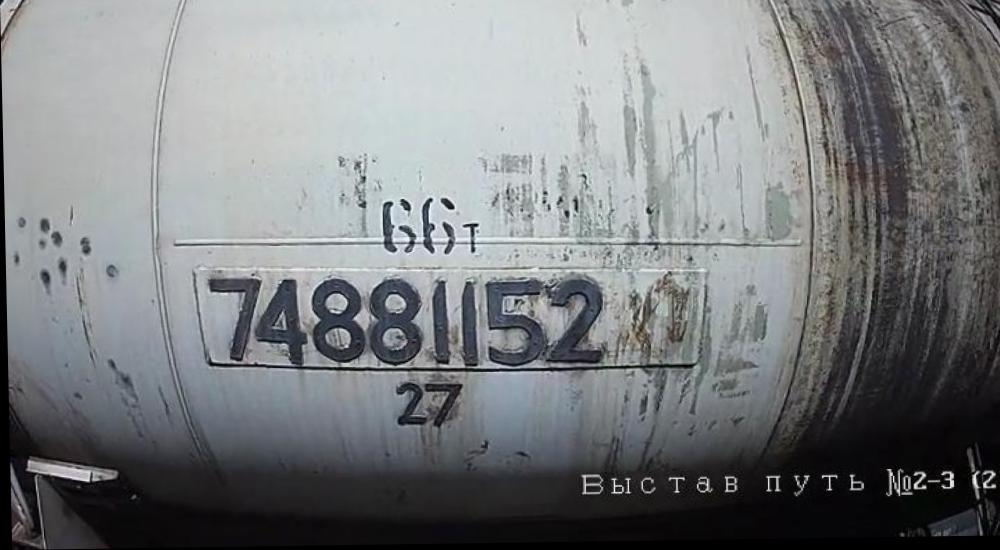Wagon-number: (201, 266, 606, 375)
